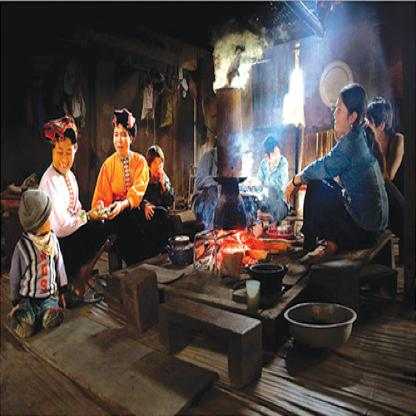fire: (205, 227, 268, 261)
smoke: (188, 6, 401, 227)
